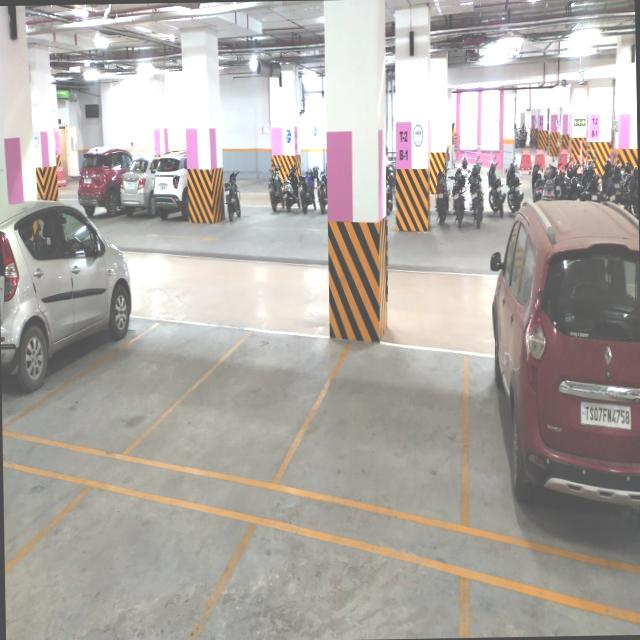car: (483, 366, 635, 532), (8, 260, 118, 366)
free: (227, 531, 437, 640), (327, 354, 455, 514), (42, 503, 181, 640), (195, 348, 290, 475), (55, 331, 154, 443)
